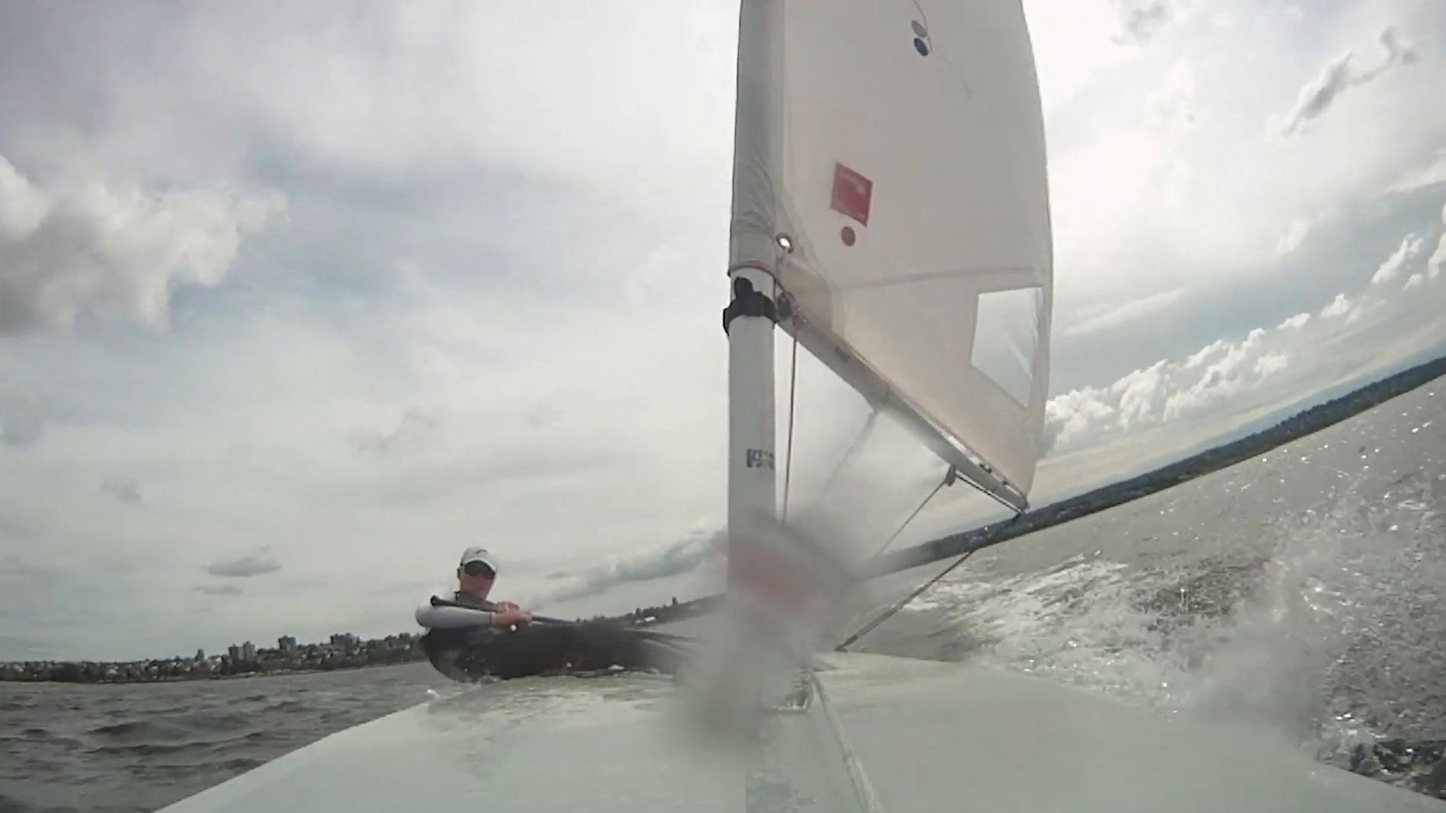boat: (154, 0, 1446, 813)
land: (920, 358, 1446, 560), (0, 635, 423, 684)
person: (416, 549, 683, 686)
sea: (829, 374, 1446, 801), (0, 662, 454, 813), (664, 611, 722, 650)
sky: (0, 0, 743, 664), (1018, 0, 1446, 509), (776, 339, 996, 566)
